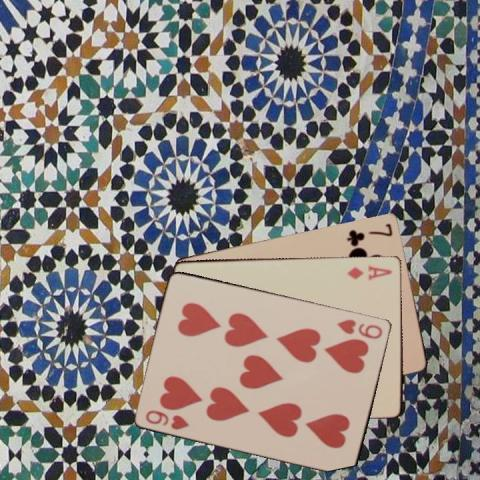7c: (344, 220, 394, 246)
9h: (335, 316, 384, 341), (142, 407, 190, 431)
Ad: (344, 262, 394, 281)
